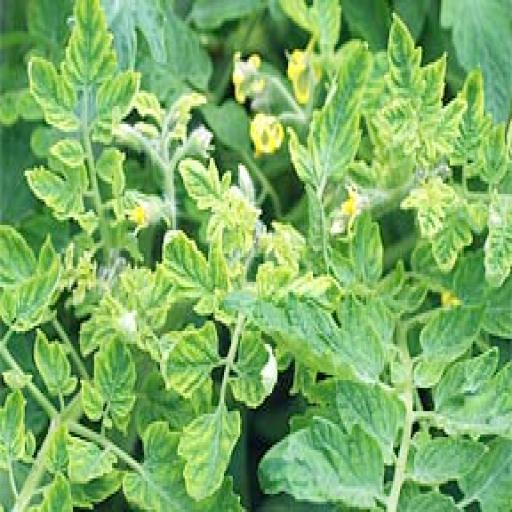disease_tomato: (290, 44, 376, 204), (177, 406, 243, 504), (80, 334, 142, 432), (154, 320, 224, 406), (154, 228, 218, 312), (66, 5, 118, 101), (7, 260, 73, 335), (24, 60, 84, 134), (28, 163, 96, 225), (172, 150, 236, 212), (430, 184, 474, 274), (448, 70, 489, 163), (380, 18, 424, 100), (229, 336, 279, 408), (32, 326, 76, 397), (100, 67, 150, 124)
